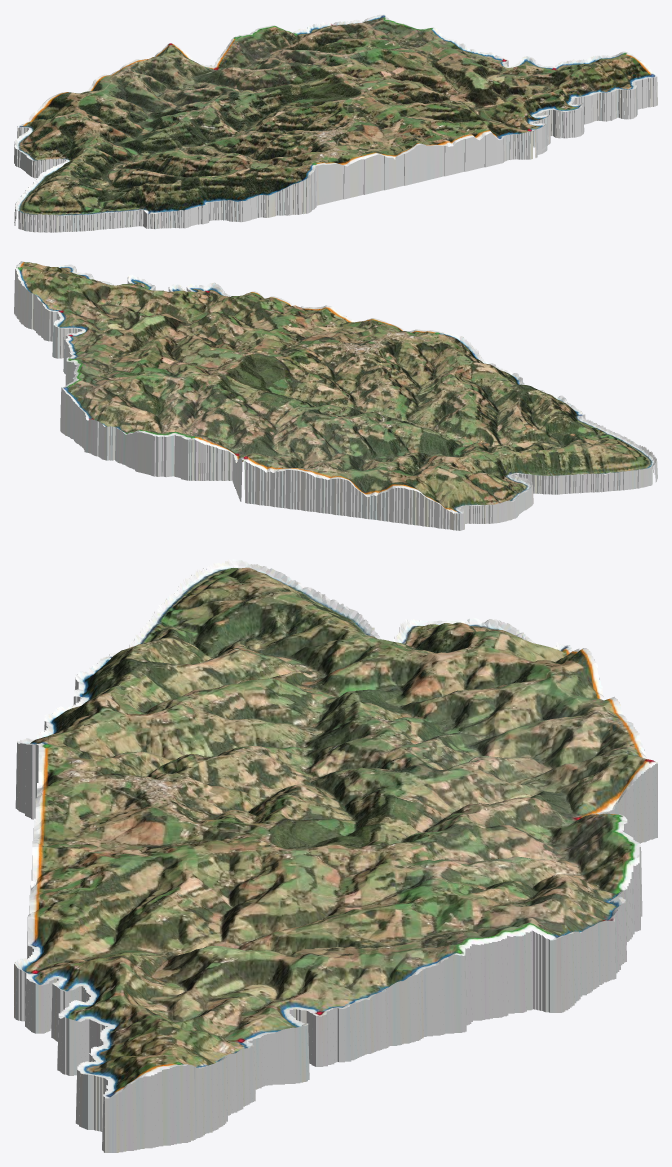
3 renders of one model, top to bottom at view 1: azimuth 30°, elevation 25°; view 2: azimuth 150°, elevation 25°; view 3: azimuth 270°, elevation 25°, orthographic. The views are drawn at different scales.
Bounding box in the file's own units: 1 × 0.0669 × 0.4857.
1 material, 1 textured.
